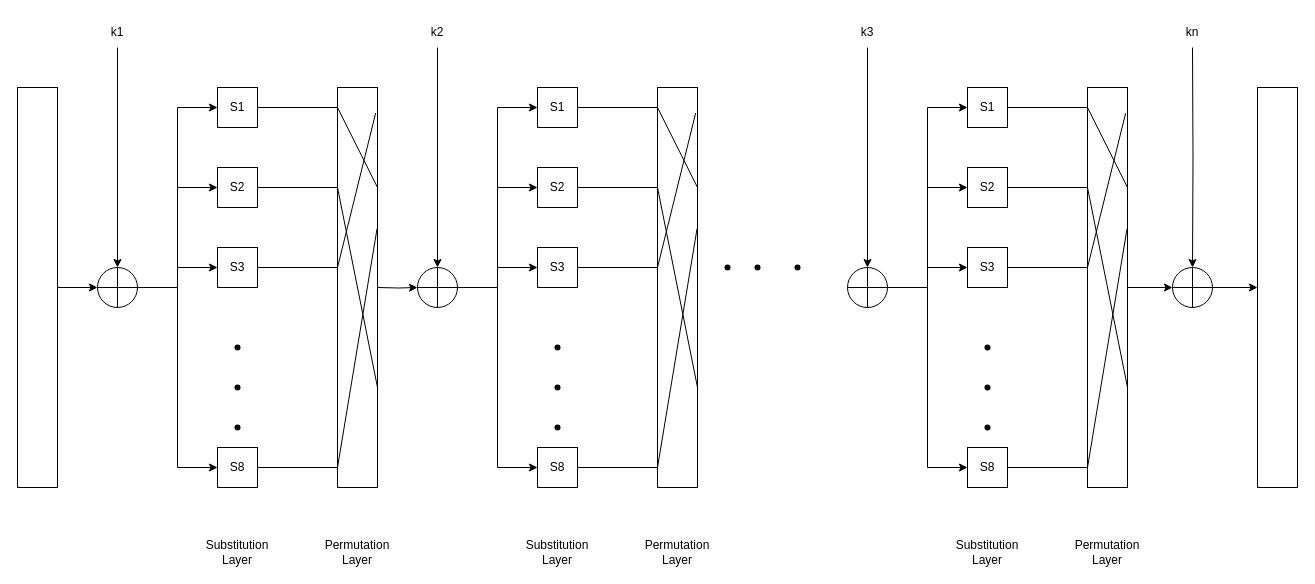
This 1315x584 diagram has some shape labels left out. The shapes that lost their labels are listed below. From the top down, each one's centre as x and y in pixels, then its label:
At point 37,287: "Input".
At point 1277,287: "Output".
